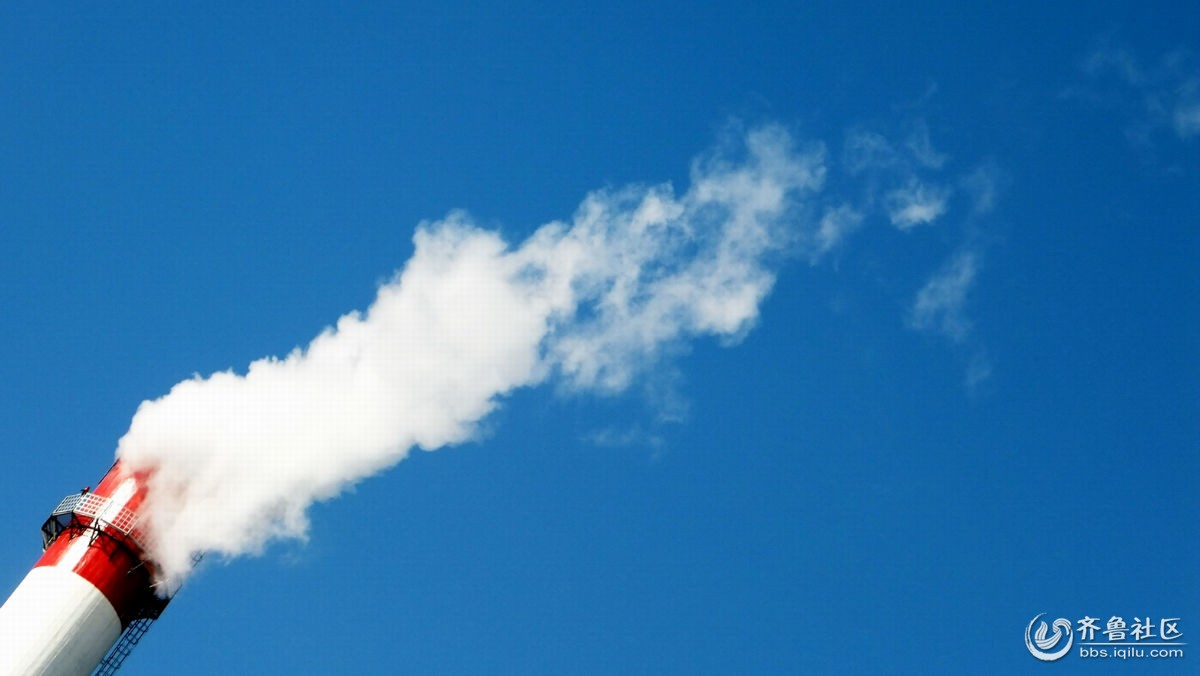dust: (69, 172, 770, 554)
